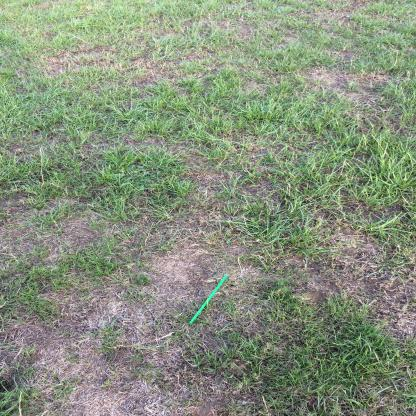plastik: (189, 274, 229, 324)
